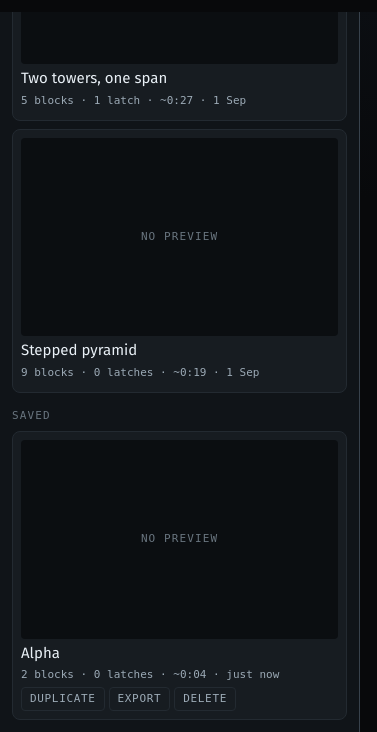
LibraryDrawer — rename, duplicate, delete with undo › renames inline on double-click, not in a modal
This screenshot has width=377, height=732.
(page scrolled)
Double-click the text with test id "name" showing "Alpha": (40, 652) x1=21 y1=644 x2=60 y2=662
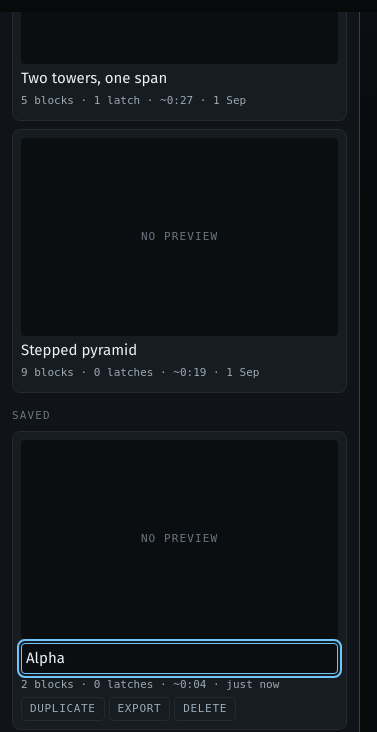
Replace the text in the field named "model name" with "Renamed by hand": (180, 658) x1=21 y1=642 x2=338 y2=674
Then press Enter
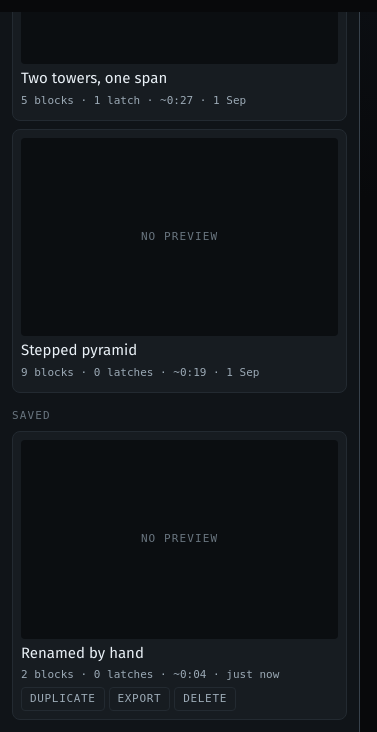
Expected: the list item "Renamed by hand" is shown, x1=12 y1=431 x2=347 y2=720
Expected: the field labelled "Alpha" is gone
